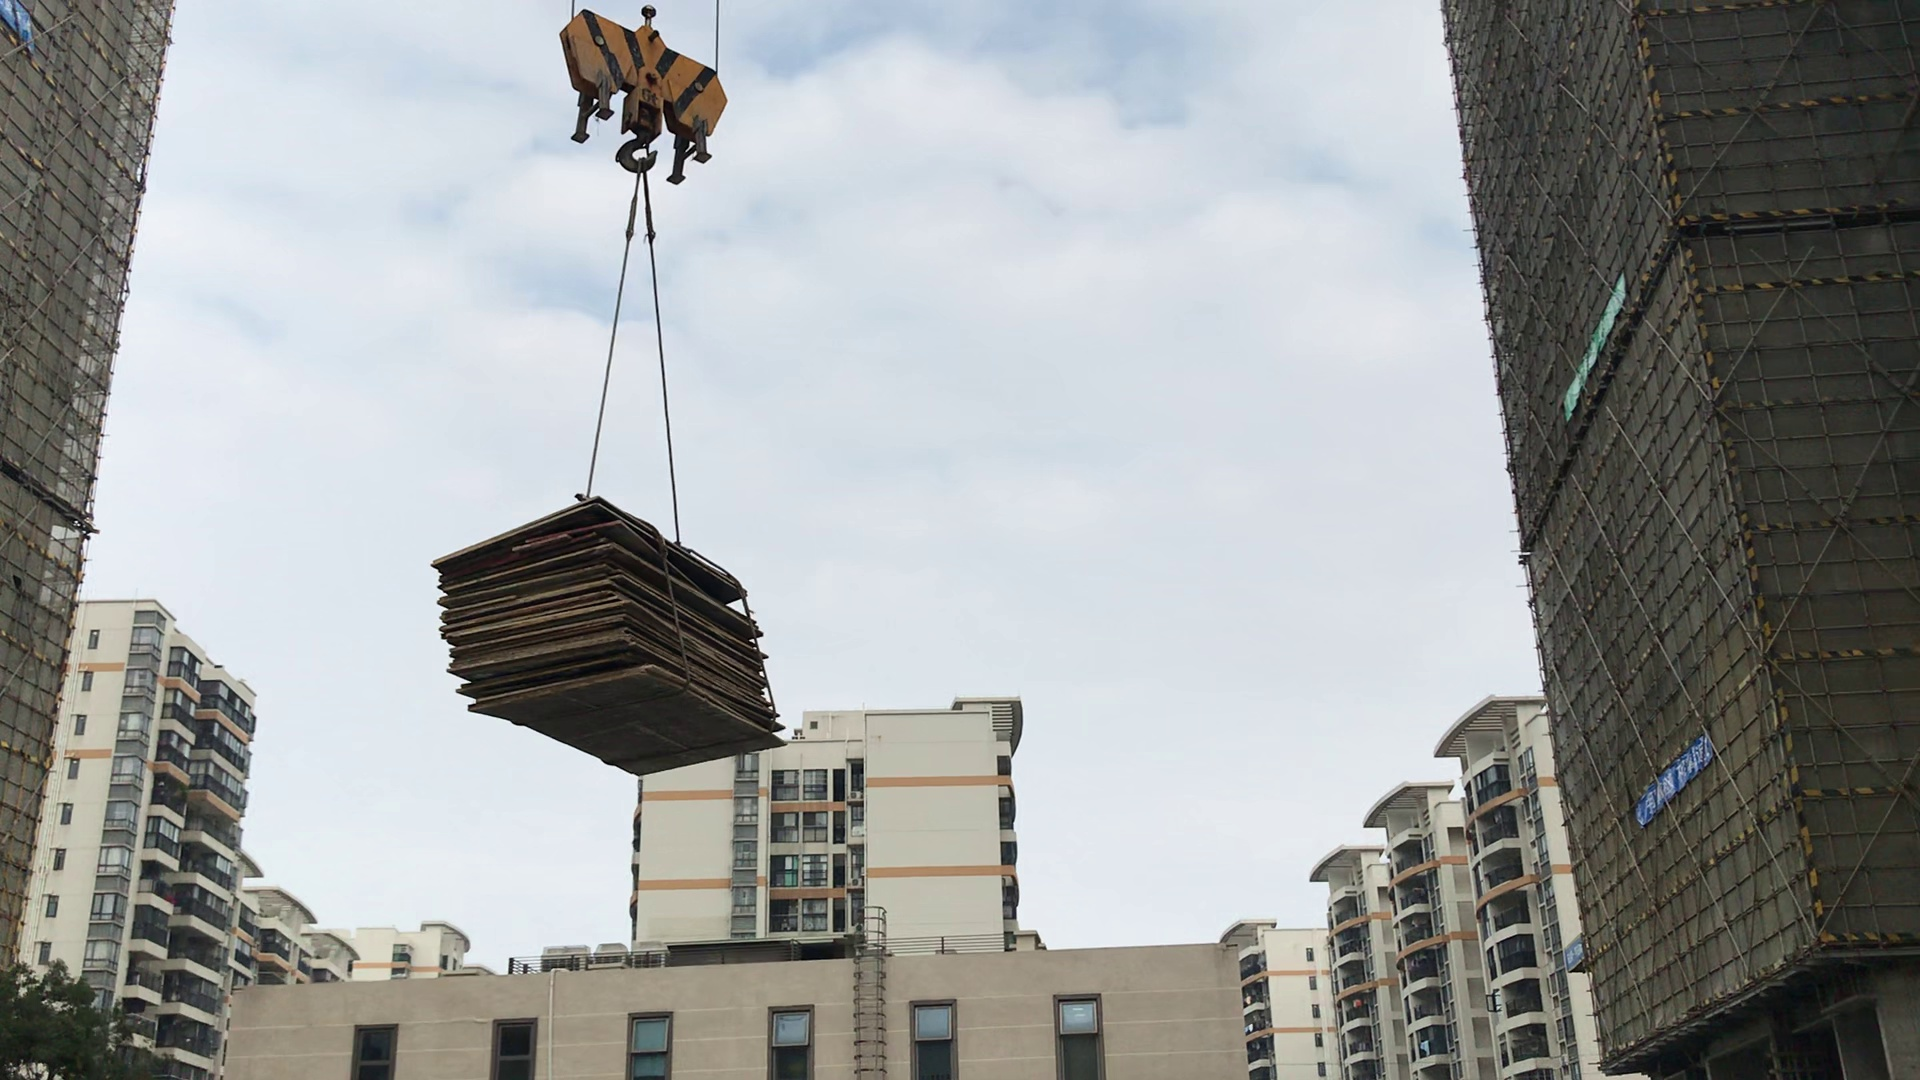board: (436, 504, 783, 774)
hook: (560, 1, 727, 185)
slogan: (1561, 284, 1623, 422), (1633, 746, 1713, 818)
